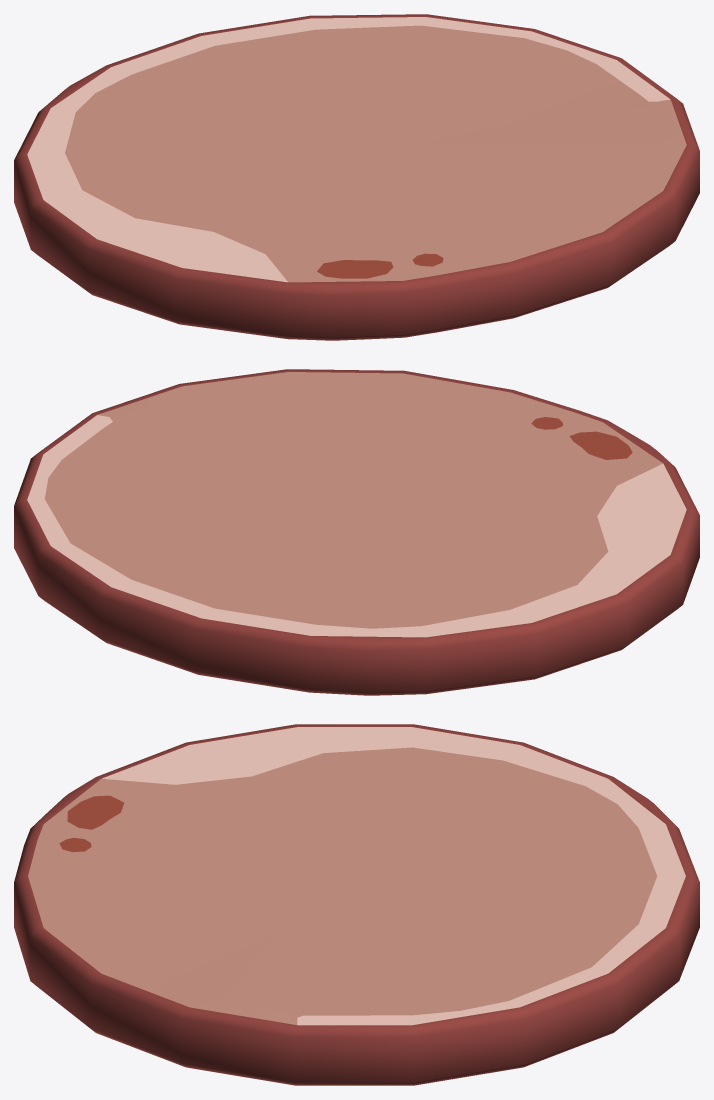
The model's file is Ham_Hotdog.fbx.
3 views of the same model, one above another, from view 1: azimuth 30°, elevation 25°; view 2: azimuth 150°, elevation 25°; view 3: azimuth 270°, elevation 25° (orthographic). The views are drawn at different scales.
Parts seen in each view (by area): view 1: Ham_Hotdog; view 2: Ham_Hotdog; view 3: Ham_Hotdog.
Part boxes in pixels (left/top/right/bottom): Ham_Hotdog: left=14, top=14, right=699, bottom=340; Ham_Hotdog: left=14, top=369, right=699, bottom=695; Ham_Hotdog: left=14, top=724, right=699, bottom=1085.
Bounding box in the file's own units: 84.94 × 79.47 × 7.63.
